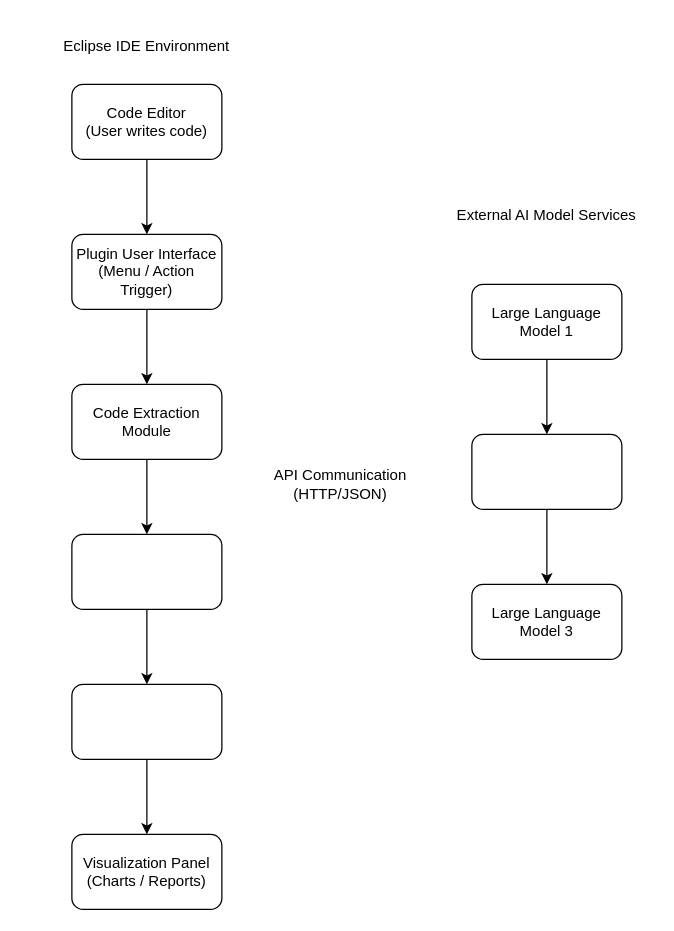
This 674x931 diagram has some shape labels left out. Each missing label, with the box of its shape:
Detection Controller: (71, 533, 222, 609)
Large Language Model 2: (471, 433, 622, 509)
Result Aggregation Module: (71, 683, 222, 759)
